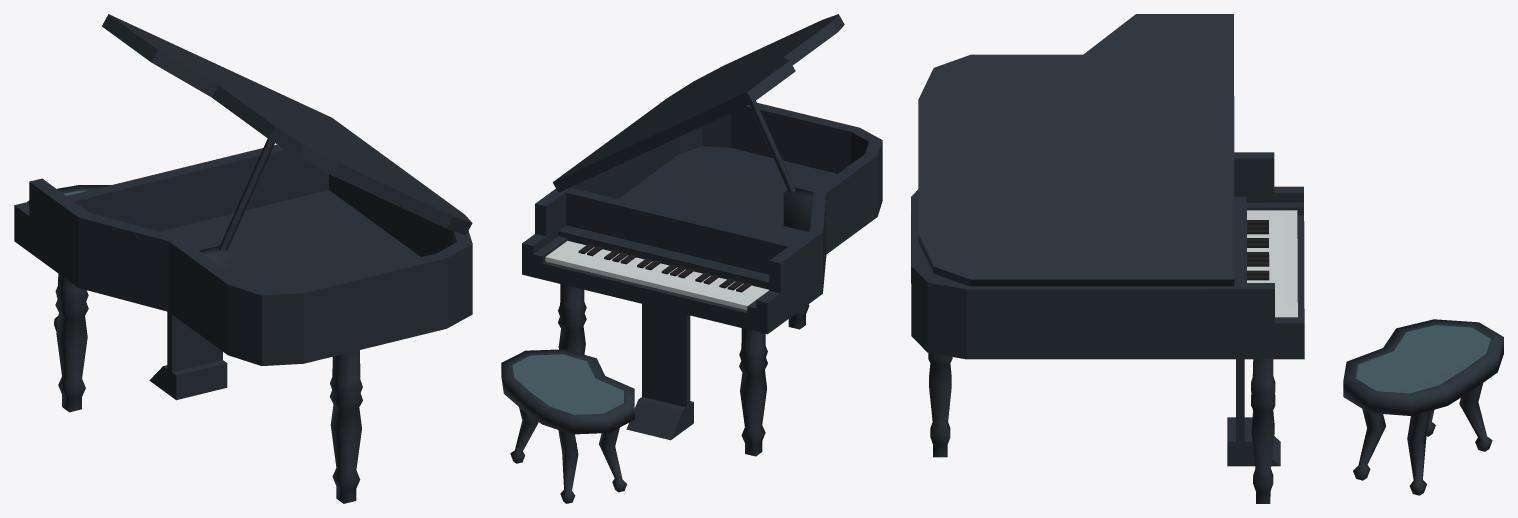
File: Piano.fbx
3 views of the same model, side by side, from view 1: azimuth 30°, elevation 25°; view 2: azimuth 150°, elevation 25°; view 3: azimuth 270°, elevation 25° (orthographic). The views are drawn at different scales.
Visible parts, largest first — view 1: Piano; view 2: Piano; view 3: Piano.
Boxes of the visible parts, x1,y1,x2,y2 form: Piano: (14,14,472,503); Piano: (501,14,882,503); Piano: (911,14,1503,503).
Size of the model in its own units: 257 by 347 by 470.
